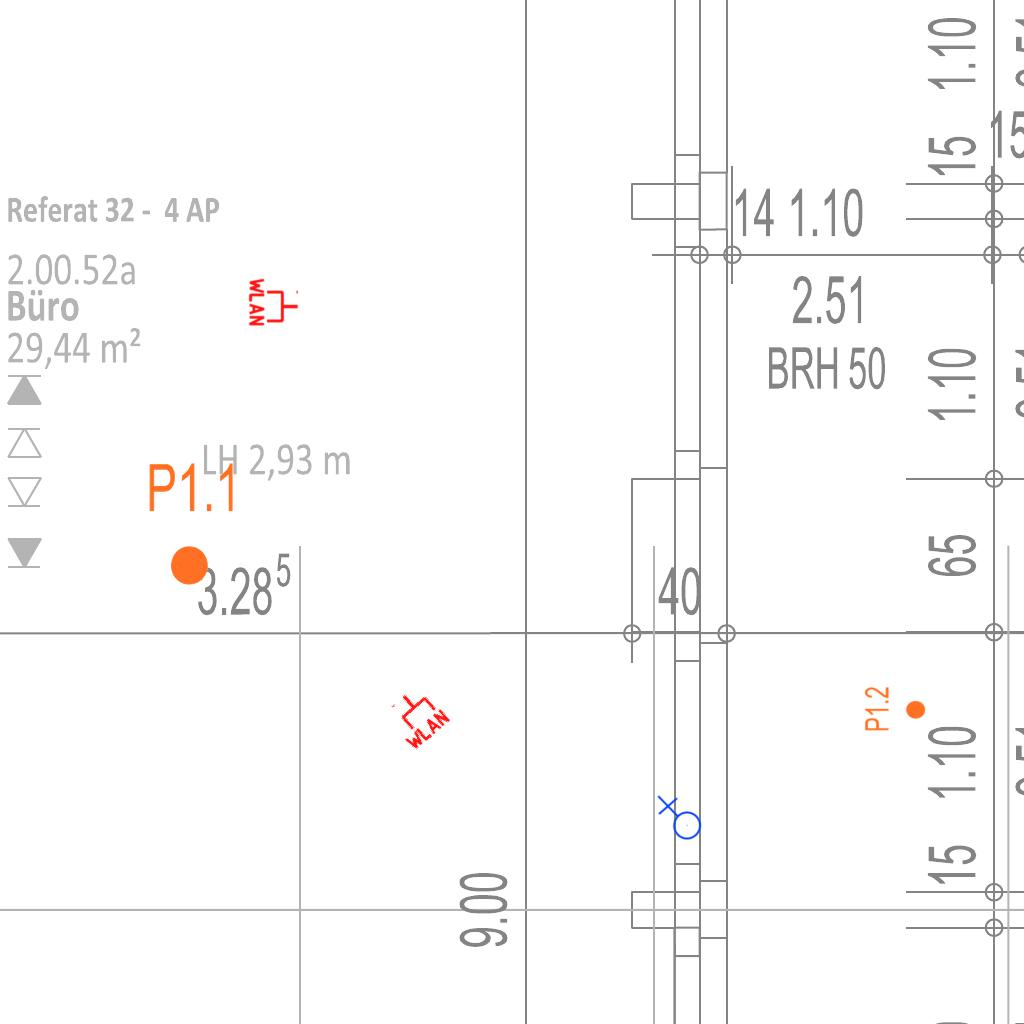Downlight_LED_Einbauleuchten_Flur: (146, 460, 239, 588), (863, 686, 927, 732)
Elektroanschluss_allgemein_230V_Geraeteanschlussdose_230V: (655, 795, 702, 844)
WLAN: (379, 680, 453, 754), (248, 276, 300, 328)
